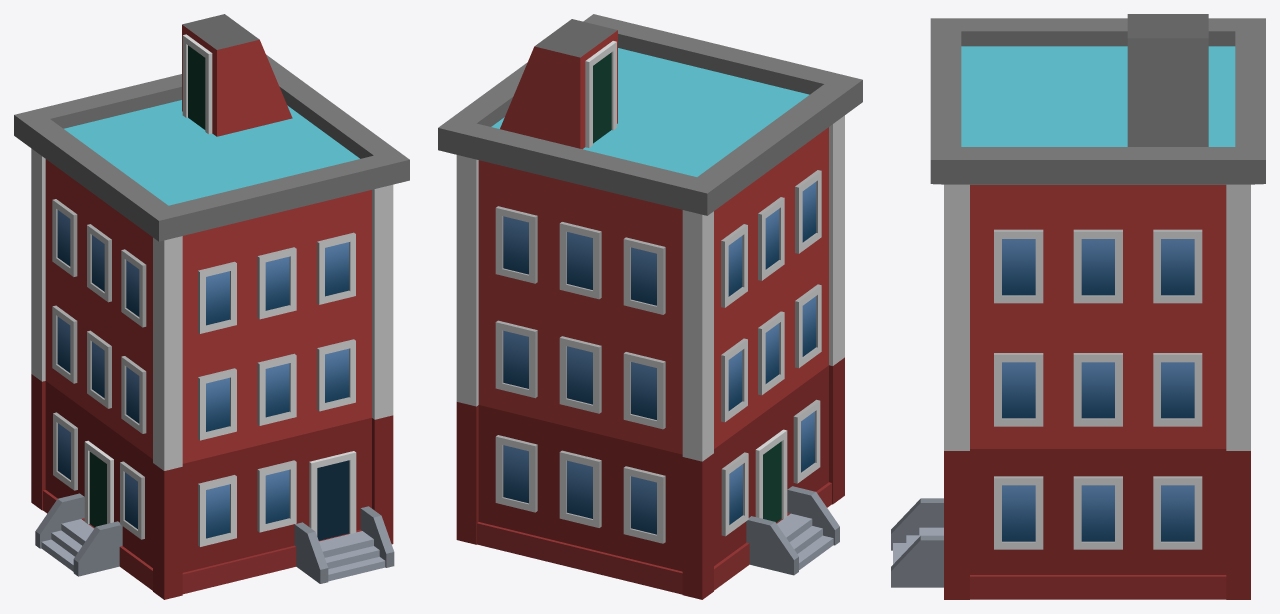
The model's file is SM_Building_01.fbx.
3 views of the same model, side by side, from view 1: azimuth 30°, elevation 25°; view 2: azimuth 150°, elevation 25°; view 3: azimuth 270°, elevation 25° (orthographic). The views are drawn at different scales.
Parts seen in each view (by area): view 1: SM_Buidling_01_c, SM_Building_01_a, SM_Building_01_b; view 2: SM_Buidling_01_c, SM_Building_01_a, SM_Building_01_b; view 3: SM_Buidling_01_c, SM_Building_01_a, SM_Building_01_b.
Part boxes in pixels (x1,y1,x2,y2): SM_Buidling_01_c: (14, 14, 409, 369); SM_Building_01_a: (31, 374, 394, 599); SM_Building_01_b: (31, 272, 393, 470); SM_Buidling_01_c: (438, 14, 862, 352); SM_Building_01_a: (456, 357, 844, 599); SM_Building_01_b: (456, 248, 844, 461); SM_Buidling_01_c: (930, 14, 1265, 333); SM_Building_01_a: (891, 449, 1250, 599); SM_Building_01_b: (944, 329, 1250, 450).
Bounding box in the file's own units: 38 × 59.46 × 38.
Materials: 1 (1 with a texture image).
